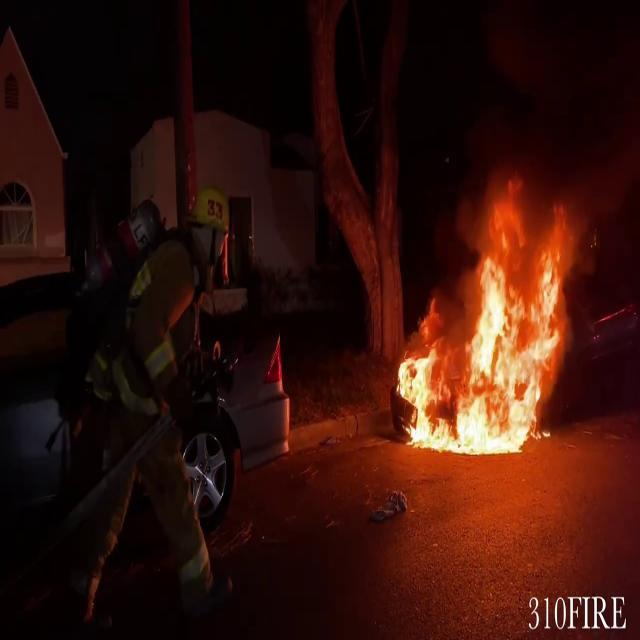Fire: (393, 188, 585, 460)
